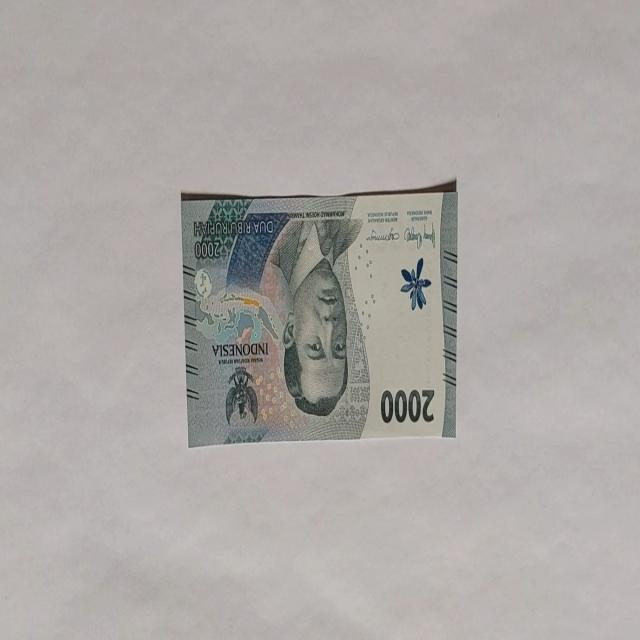dua ribu rupiah: (180, 180, 458, 447), (267, 215, 365, 421)
